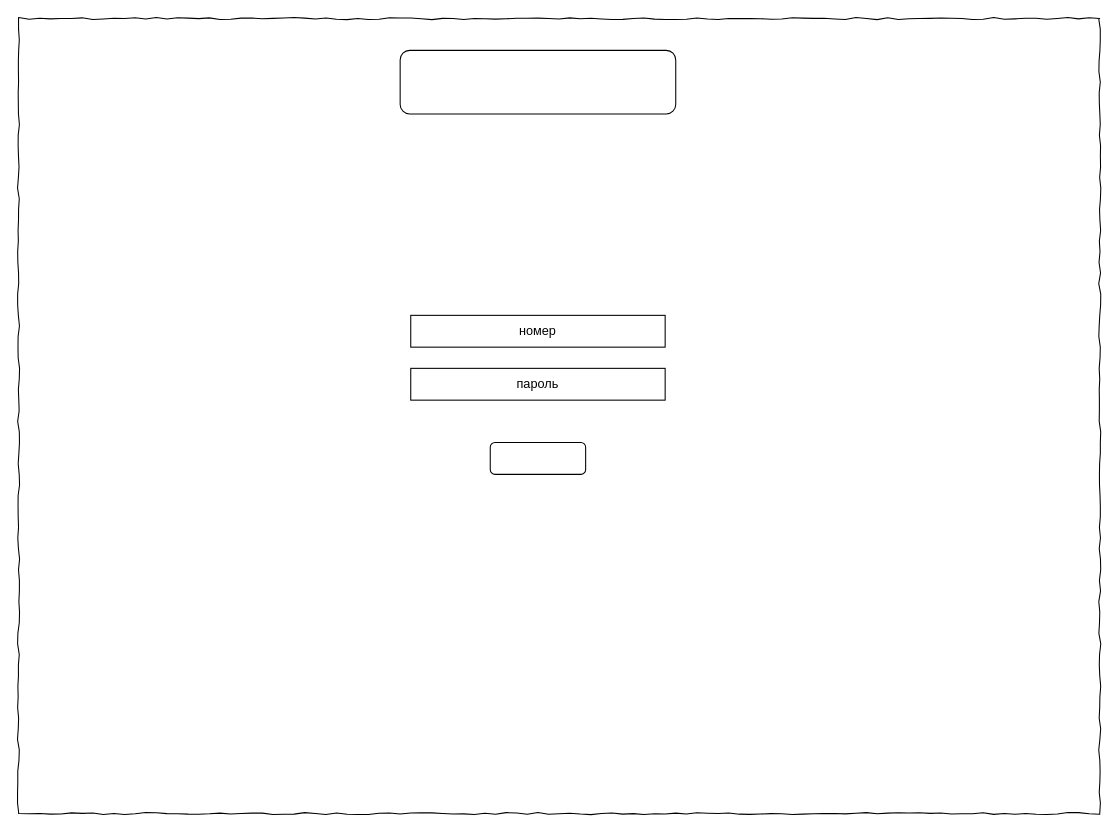
Some shapes in this 1118 by 832 pixel diagram are drawn without their labels. Here are the shapes that lost their labels. From the top down, the centre of each, then its label:
the point at 537,81: авториз
the point at 537,457: вход
